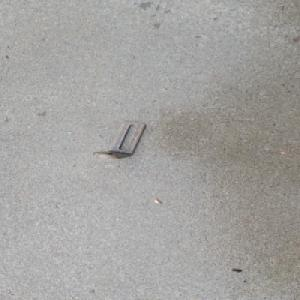MetalPart: (91, 120, 146, 159)
